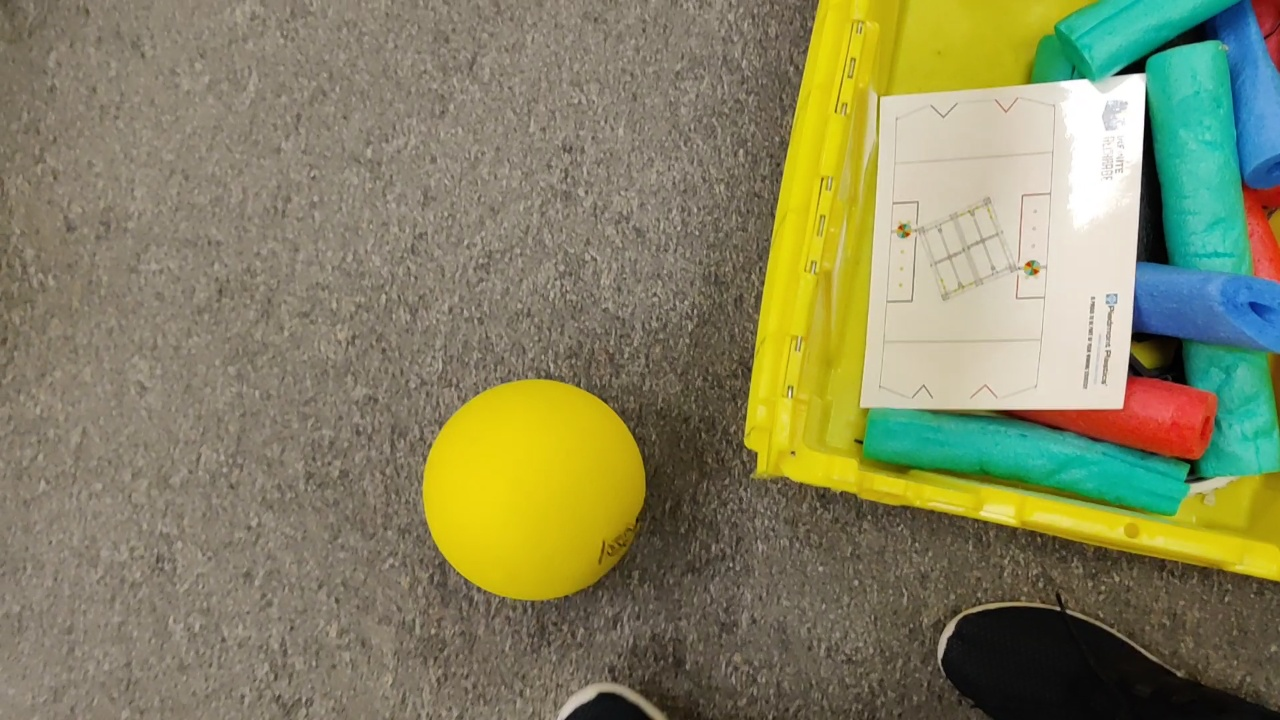Ball: (425, 377, 651, 597)
